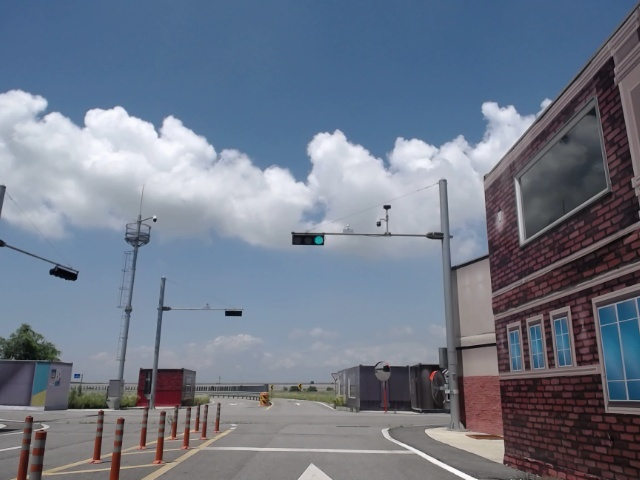green_3: (292, 235, 324, 245)
